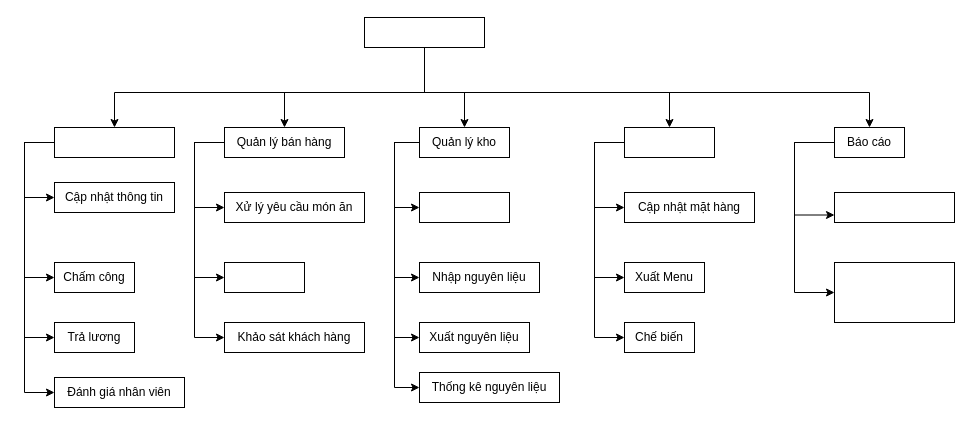
Some shapes in this 972 by 425 pixel diagram are drawn without their labels. Each missing label, with the centre of its shape:
"Báo cáo chất lượng phục vụ" belongs at pixel 894 292.
"Báo cáo doanh thu" belongs at pixel 894 207.
"Quản lý hàng" belongs at pixel 669 142.
"Quản lý NCC" belongs at pixel 464 207.
"Quản lý nhà hàng" belongs at pixel 424 32.
"Quản lý nhân viên" belongs at pixel 114 142.
"Thanh toán" belongs at pixel 264 277.
